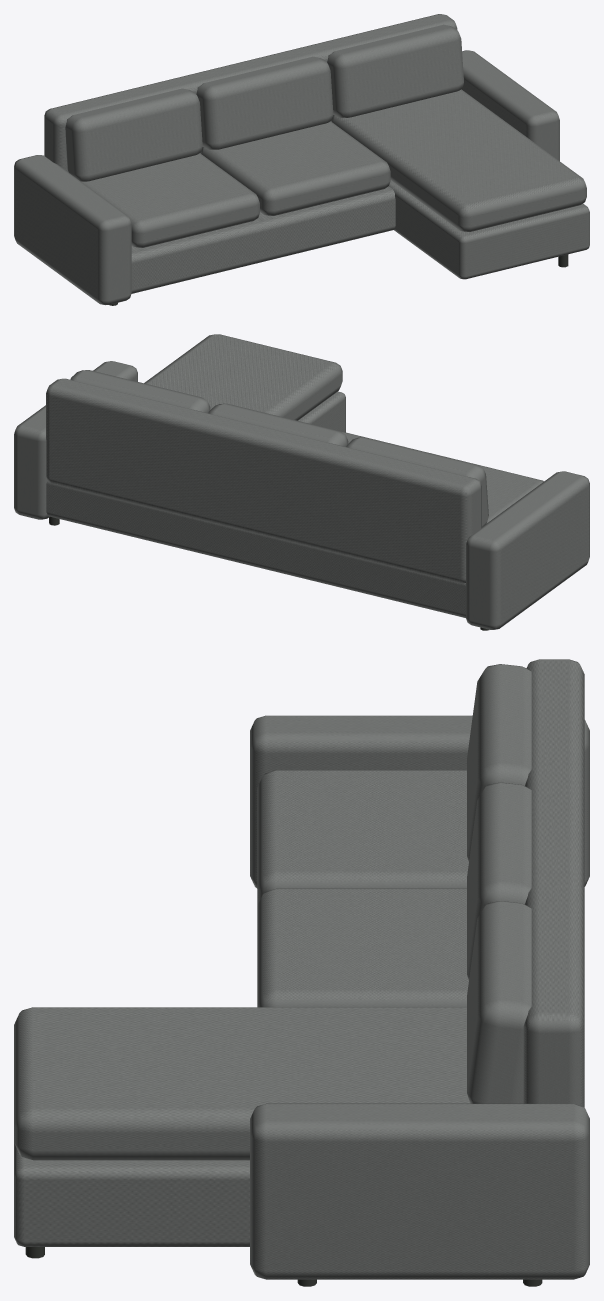
Rendered from kivik-chaise-mobile.glb.
The picture shows the model from 3 angles, top to bottom: view 1: azimuth 30°, elevation 25°; view 2: azimuth 150°, elevation 25°; view 3: azimuth 270°, elevation 25°; orthographic projection. The views are drawn at different scales.
Visible parts, largest first — view 1: KIVIK Sofa with chaise; view 2: KIVIK Sofa with chaise; view 3: KIVIK Sofa with chaise.
Boxes of the visible parts, x1=… form: KIVIK Sofa with chaise: x1=14, y1=14, x2=589, y2=305; KIVIK Sofa with chaise: x1=14, y1=334, x2=589, y2=630; KIVIK Sofa with chaise: x1=14, y1=659, x2=589, y2=1286.
Size of the model in its own units: 2.8 by 0.83 by 1.63.
2 materials, 2 textured.
